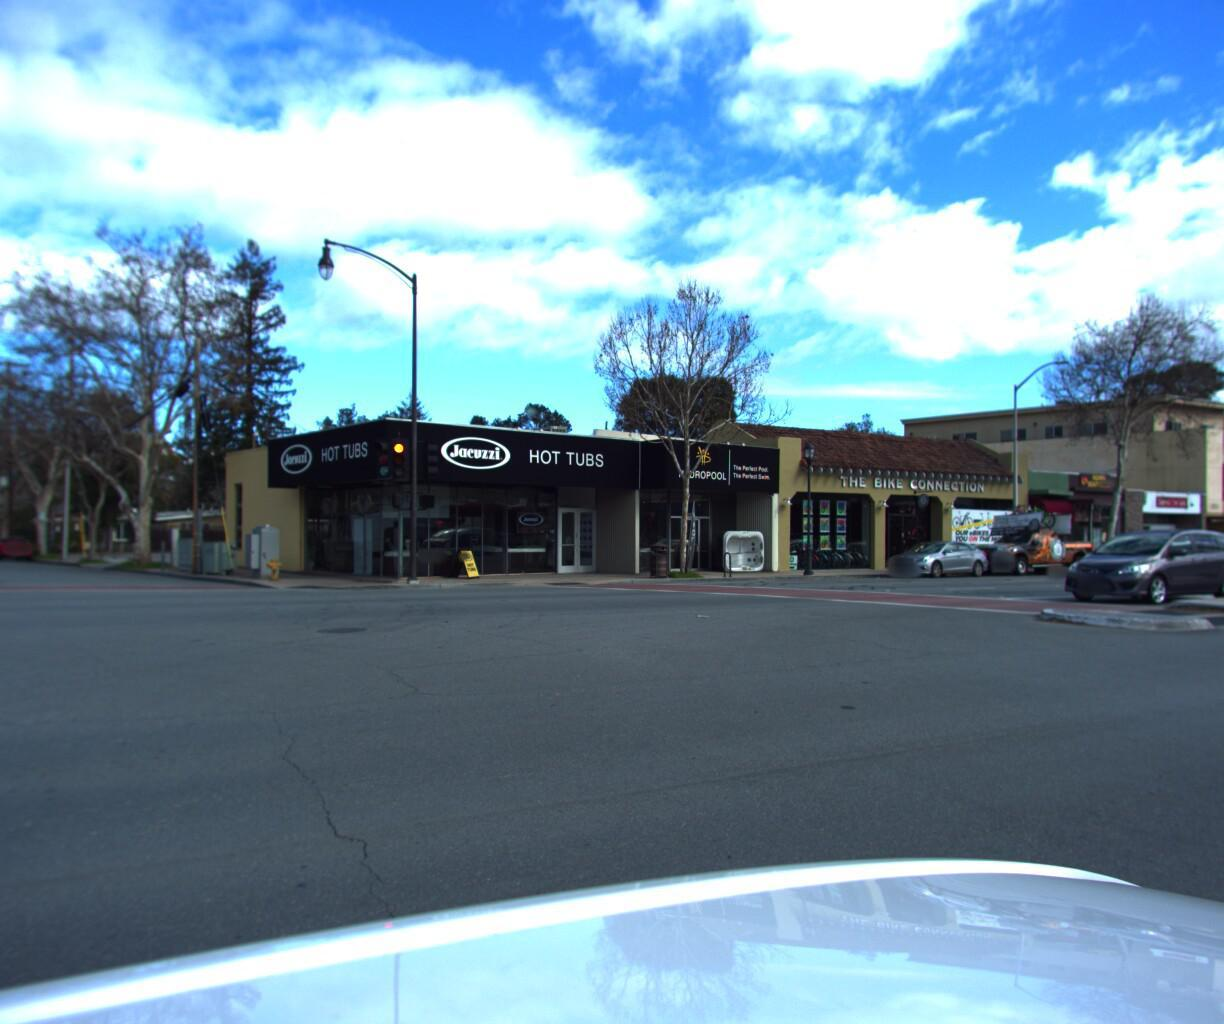car: (1049, 524, 1224, 603), (958, 525, 1096, 574), (877, 536, 992, 579), (1157, 532, 1224, 573), (0, 533, 43, 564), (1207, 538, 1224, 566)
